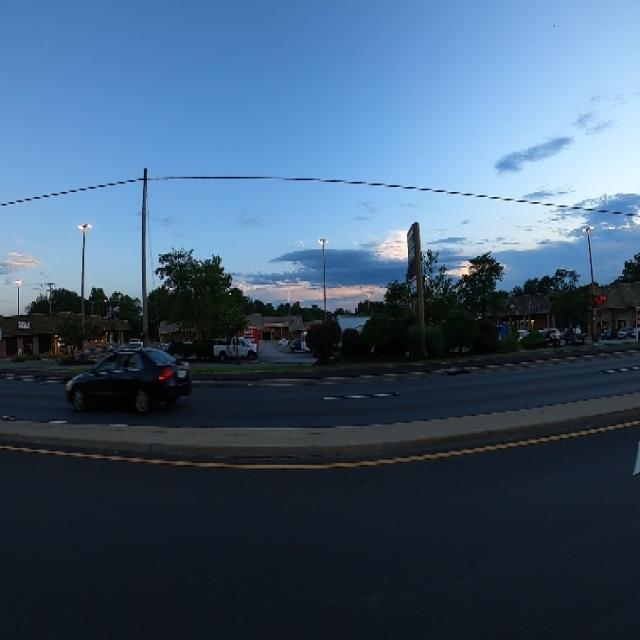cars: (67, 350, 196, 414), (211, 336, 260, 362), (225, 318, 263, 348), (302, 323, 317, 358), (544, 322, 563, 347), (127, 329, 145, 354), (290, 323, 302, 358), (514, 318, 530, 344), (617, 320, 631, 344), (566, 323, 584, 341), (277, 333, 290, 349)
